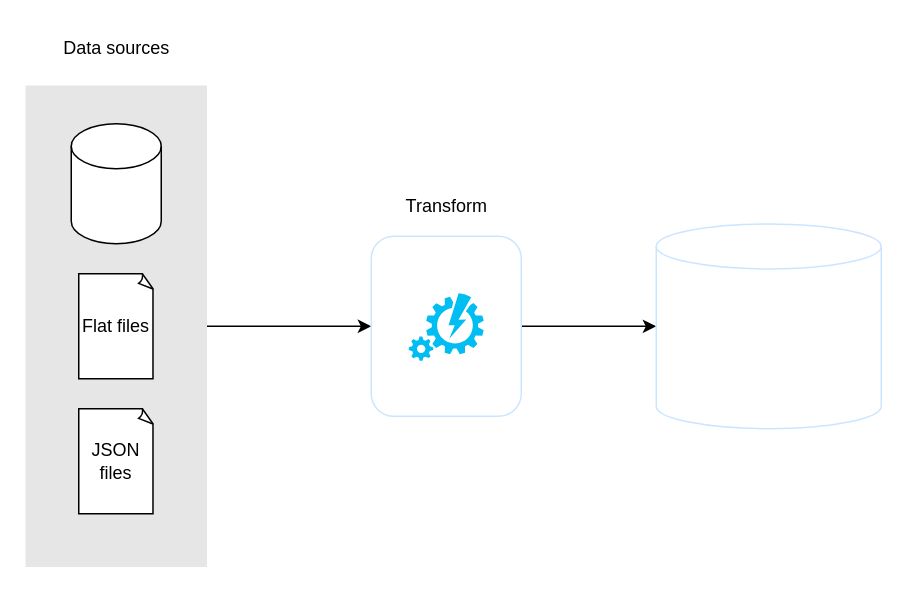
The diagram is 908 pixels wide and 593 high, and some of its shapes have lost their labels. Each missing label, with the centre of its shape:
"Data warehouse" goes at (x=768, y=325).
"SQL DBs" goes at (x=115, y=183).
